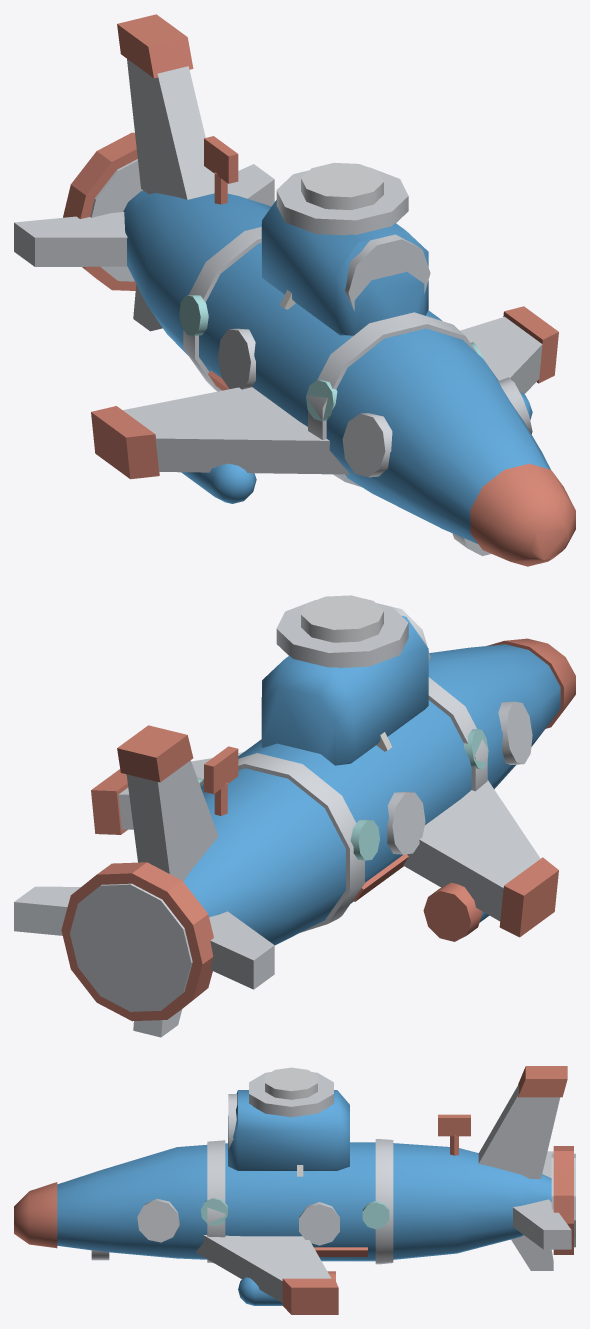
File: submarines_BlueStreak.glb
3 renders of one model, top to bottom at view 1: azimuth 30°, elevation 25°; view 2: azimuth 150°, elevation 25°; view 3: azimuth 270°, elevation 25°, orthographic. The views are drawn at different scales.
Visible parts, largest first — view 1: Hull, Hull_Glow; view 2: Hull, Hull_Glow; view 3: Hull, Hull_Glow.
Part boxes in pixels (x1,y1,x2,y2): Hull: (14, 14, 575, 566); Hull_Glow: (179, 295, 483, 421); Hull: (14, 595, 575, 1037); Hull_Glow: (197, 729, 488, 860); Hull: (14, 1066, 575, 1314); Hull_Glow: (200, 1198, 389, 1229).
Size of the model in its own units: 26.36 by 16.8 by 44.15.
